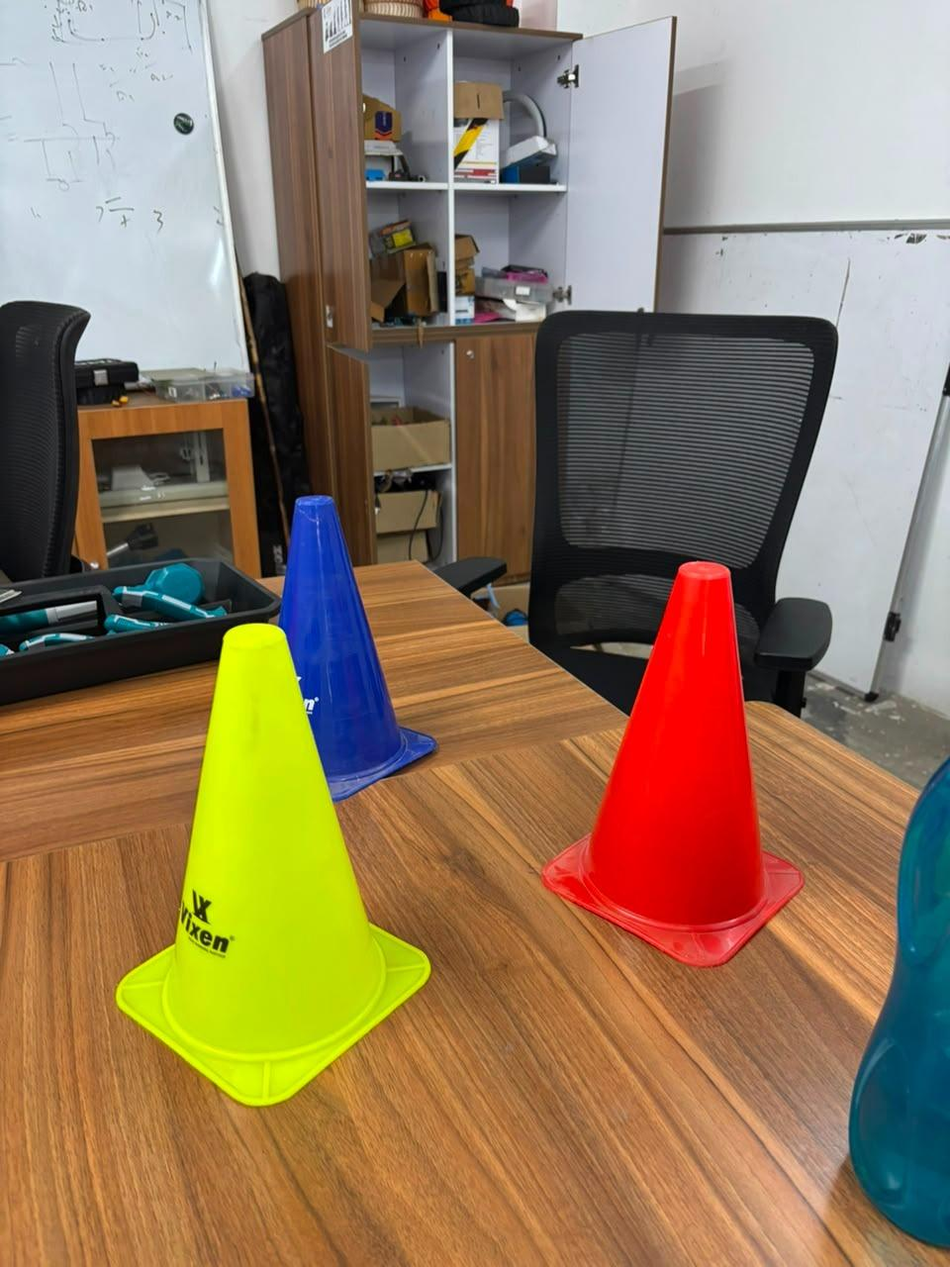0 cone: (117, 497, 434, 1106), (543, 561, 803, 966)
